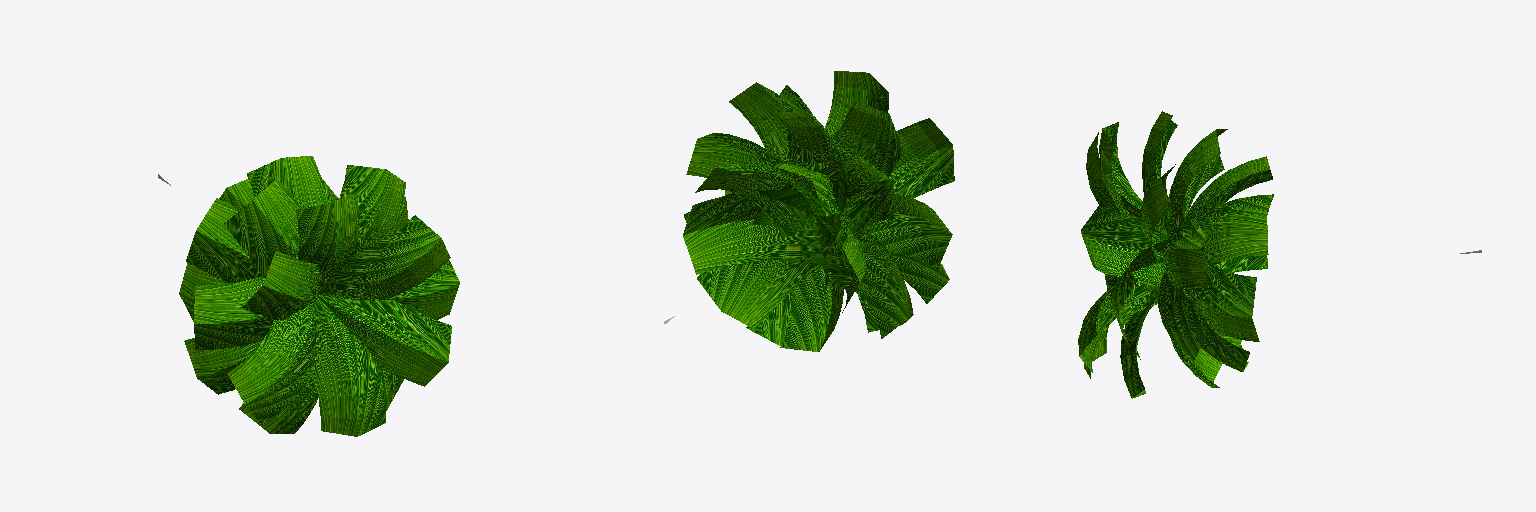
3 renders of one model, left to right at view 1: azimuth 30°, elevation 25°; view 2: azimuth 150°, elevation 25°; view 3: azimuth 270°, elevation 25°, orthographic.
Parts seen in each view (by area): view 1: palm_folhas.002; view 2: palm_folhas.002; view 3: palm_folhas.002.
Boxes of the visible parts, <box> form: palm_folhas.002: <box>158,156,459,436</box>; palm_folhas.002: <box>664,71,954,351</box>; palm_folhas.002: <box>1078,111,1481,398</box>.
Bounding box in the file's own units: 7.3 × 7.05 × 10.34.
Materials: 2 (1 with a texture image).